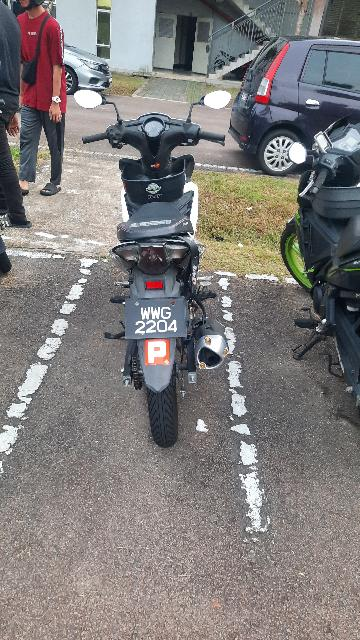License_Plate: (126, 299, 190, 337)
car: (222, 24, 360, 171)
motorcycle: (72, 77, 252, 462)
